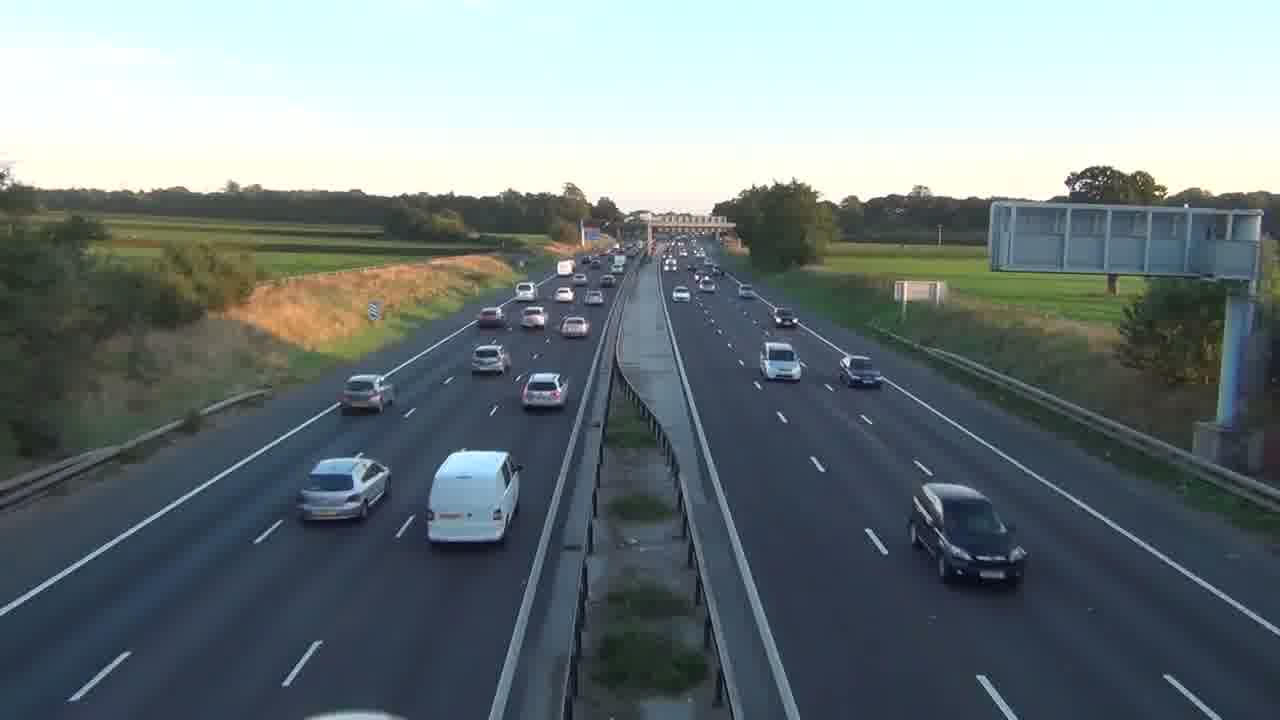car: (906, 480, 1029, 586), (293, 454, 392, 523), (338, 373, 387, 415), (760, 340, 805, 383), (522, 371, 567, 410), (836, 353, 881, 389), (471, 341, 511, 375), (559, 315, 592, 339)
truck: (906, 480, 1029, 586), (424, 448, 524, 546)
